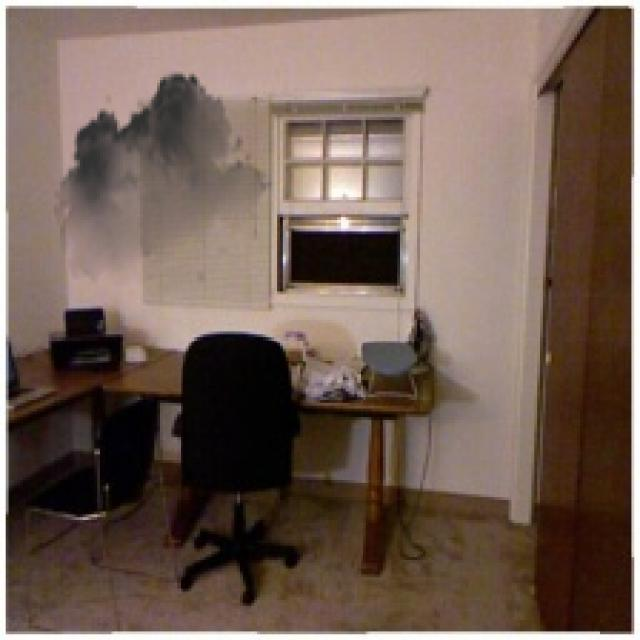smoke: (54, 63, 274, 294)
